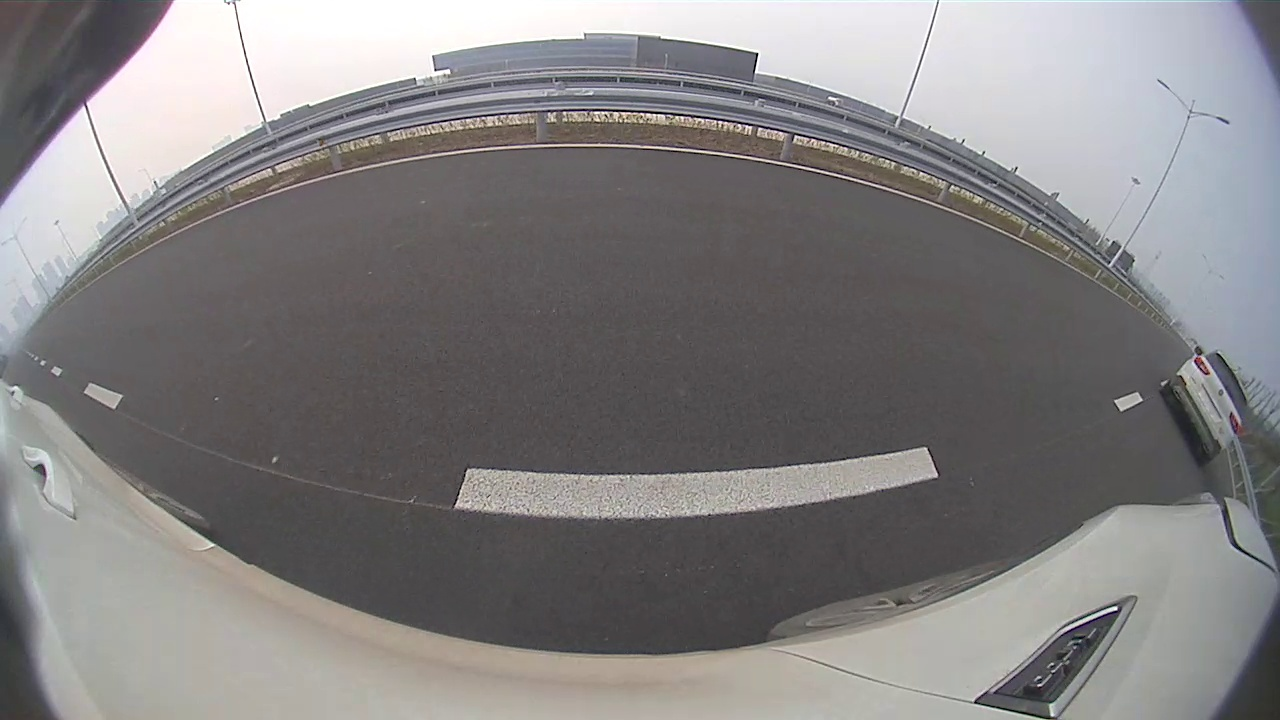car: (1159, 347, 1249, 465)
